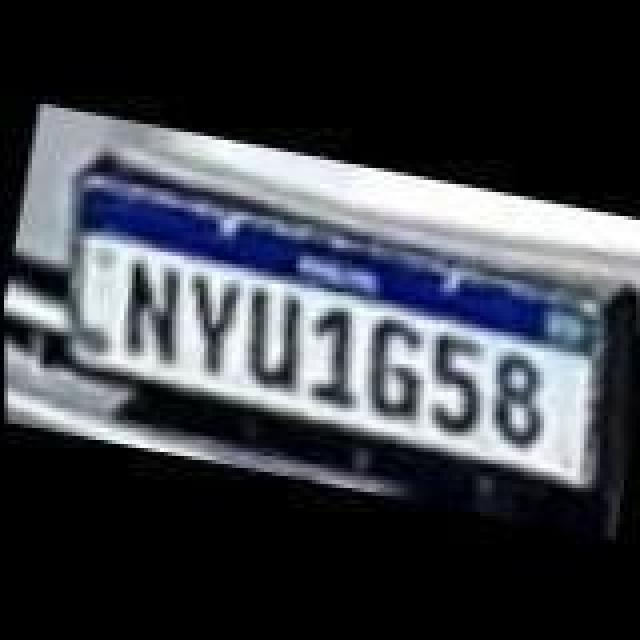1: (296, 302, 368, 410)
5: (414, 330, 490, 438)
8: (474, 340, 558, 460)
G: (352, 312, 432, 424)
N: (108, 252, 188, 364)
U: (234, 276, 318, 396)
Y: (172, 266, 252, 382)
